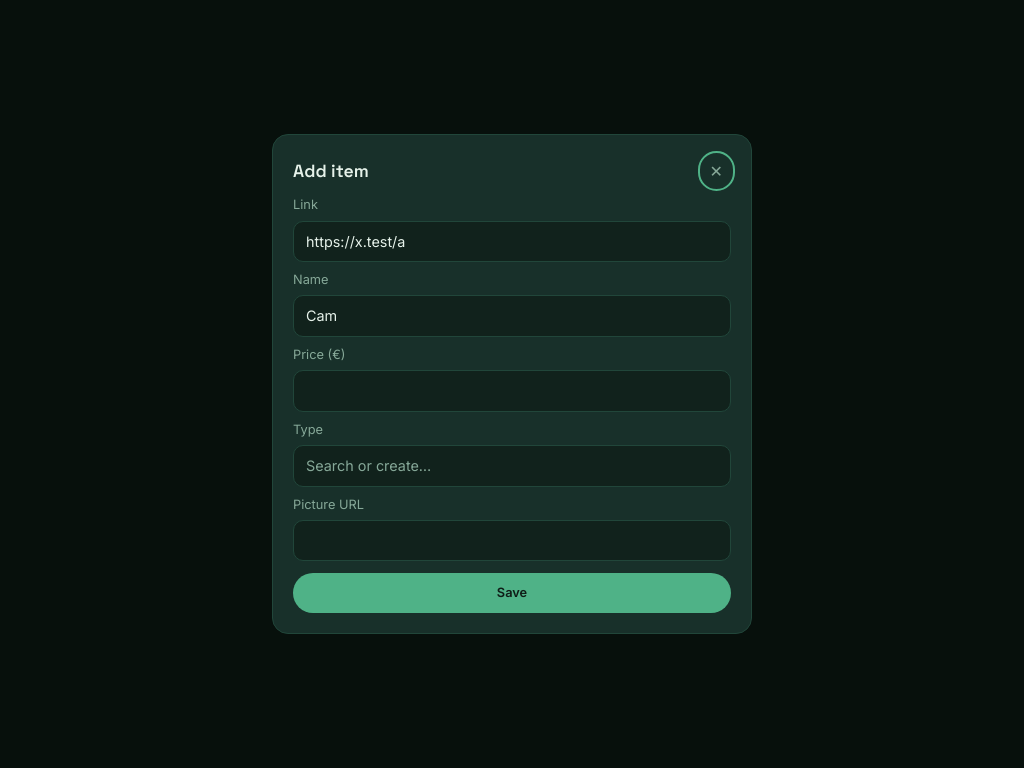
Test: disables Save while saving so a double click saves once
The width and height of the screenshot is (1024, 768).
Later steps or results of the test are not shown.
Step 1. Click the button "Save" → x=512, y=593, box [293,573,731,612]
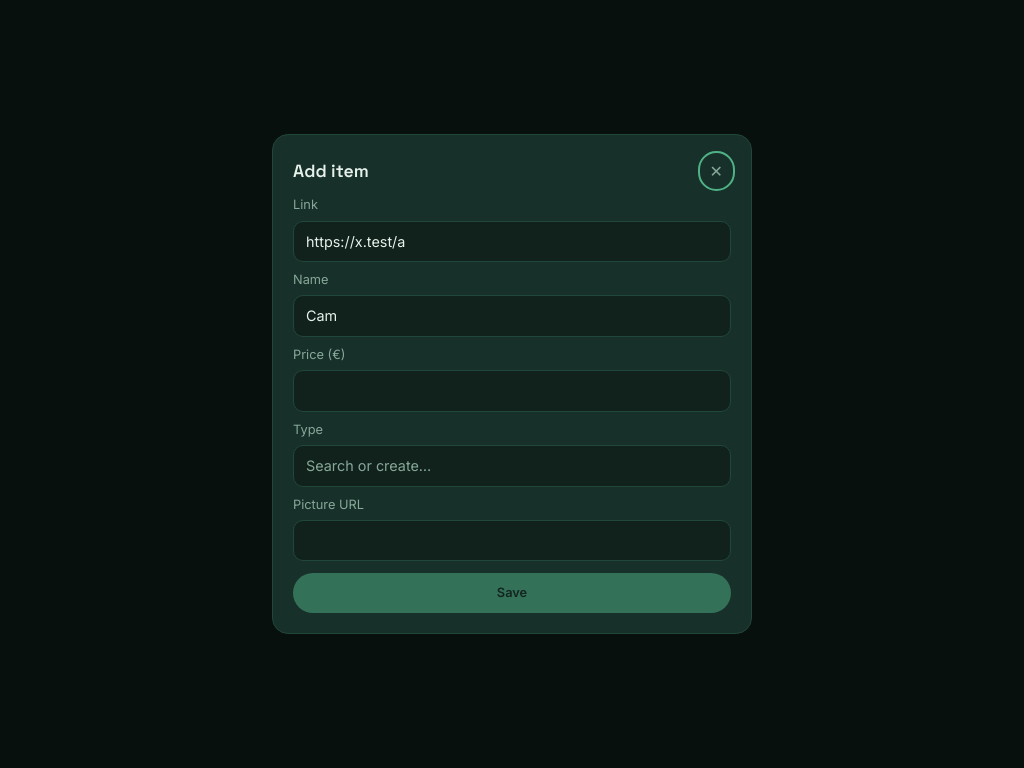
Step 2. Click the button "Save" → x=512, y=593, box [293,573,731,612]
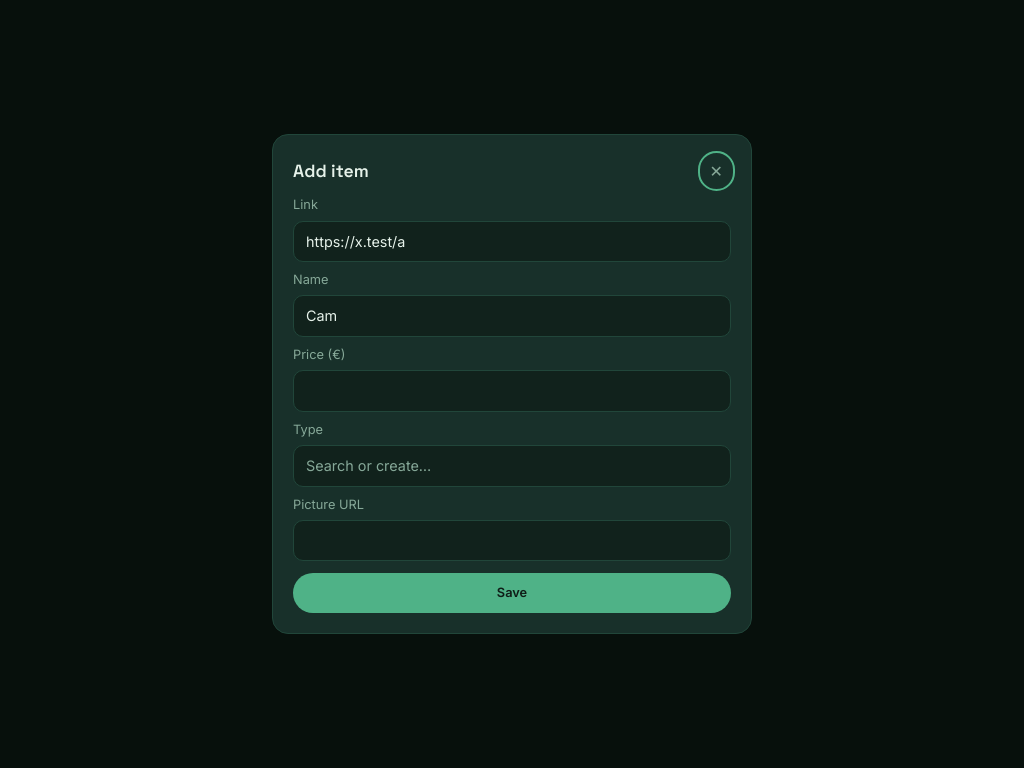
Check: the button "Save" is enabled, box [293,573,731,612]
